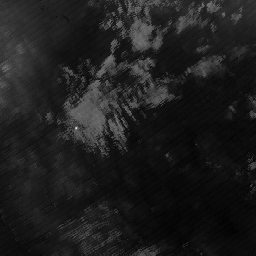Target: (73, 126, 79, 131)
